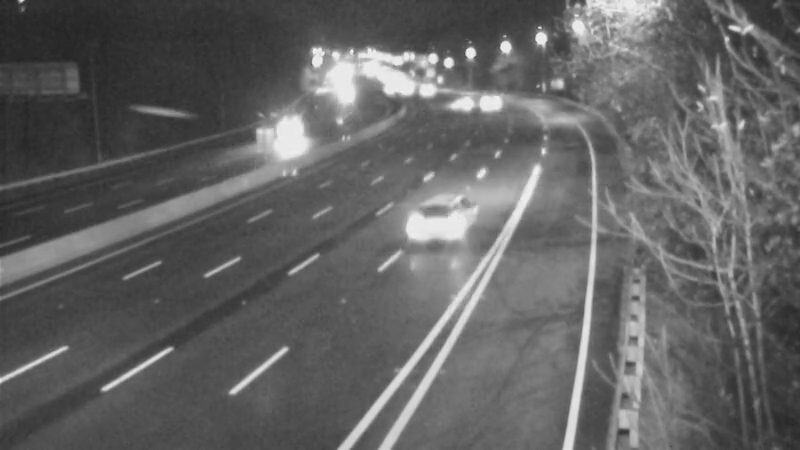vehicle: (386, 172, 466, 252), (396, 67, 446, 117), (468, 83, 518, 133), (433, 76, 483, 126), (265, 105, 315, 155)
